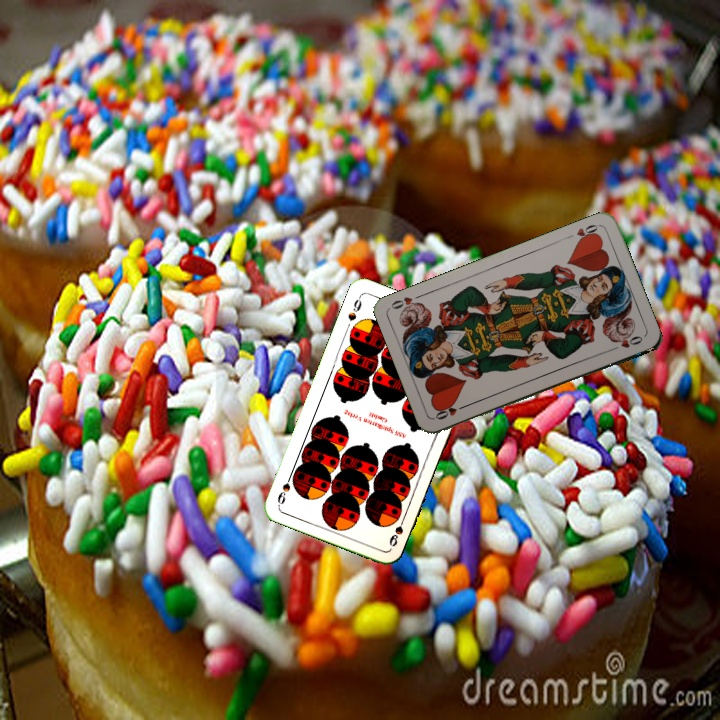HO: (563, 220, 602, 245), (431, 400, 470, 422)
S9: (385, 511, 408, 550), (344, 292, 364, 324)
